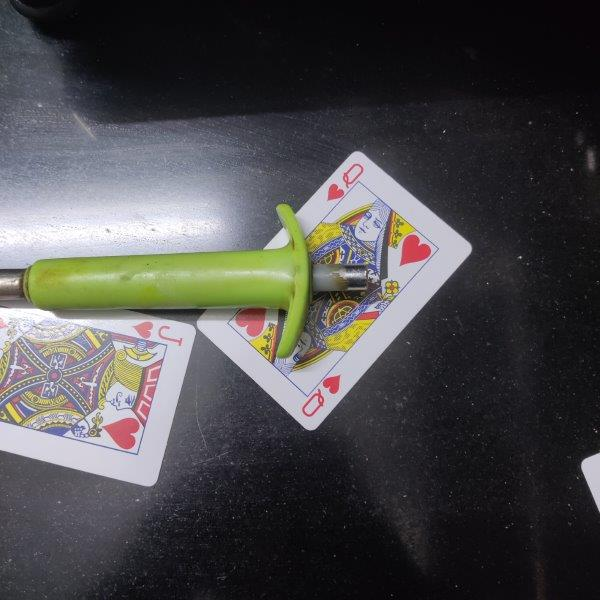Jack of Hearts: (1, 300, 197, 487)
Queen of Hearts: (195, 151, 474, 431)
